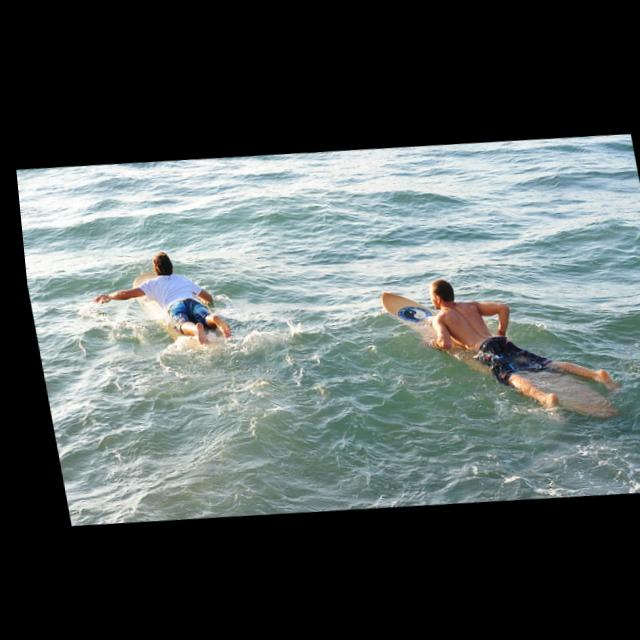human: (401, 256, 622, 436), (70, 240, 233, 361)
